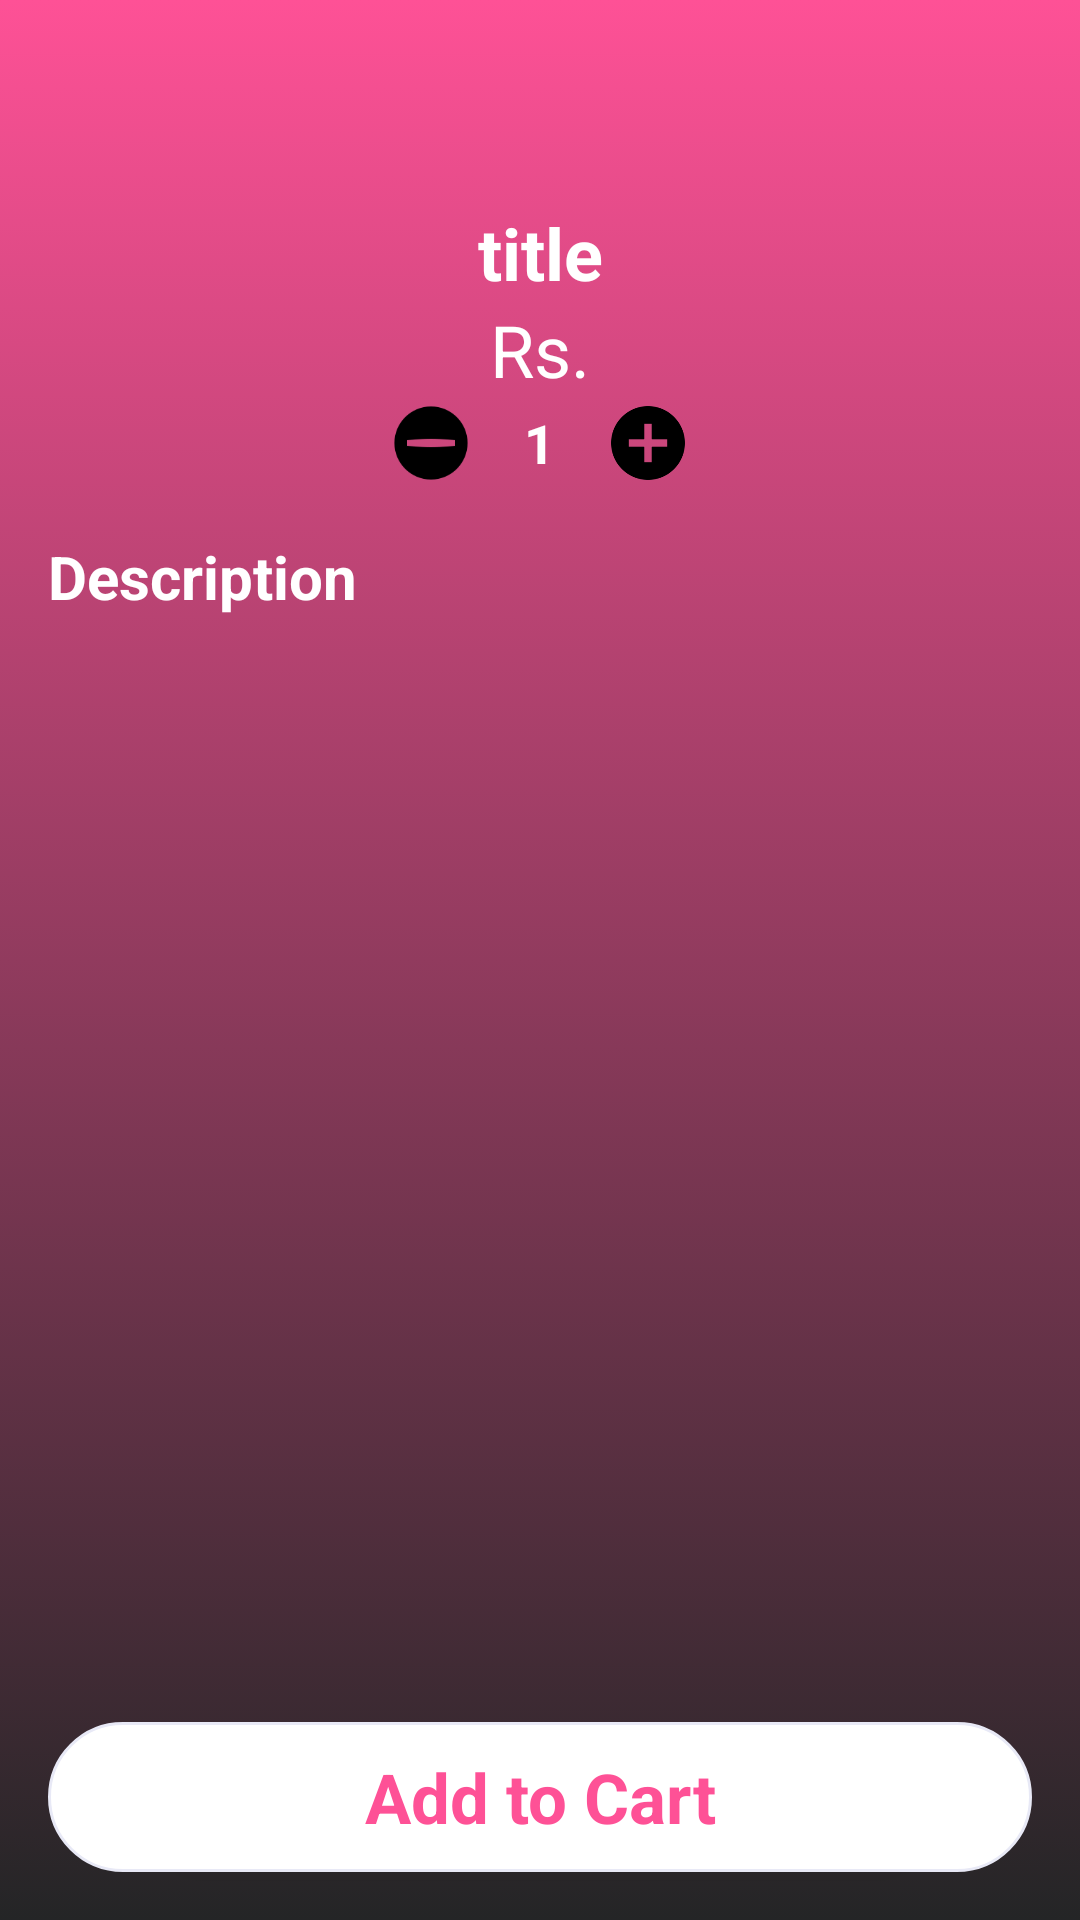

Point at icon controls on the screen. Image size 1080*1920, points as point (x, y).
minus: point (431, 443)
plus: point (648, 443)
